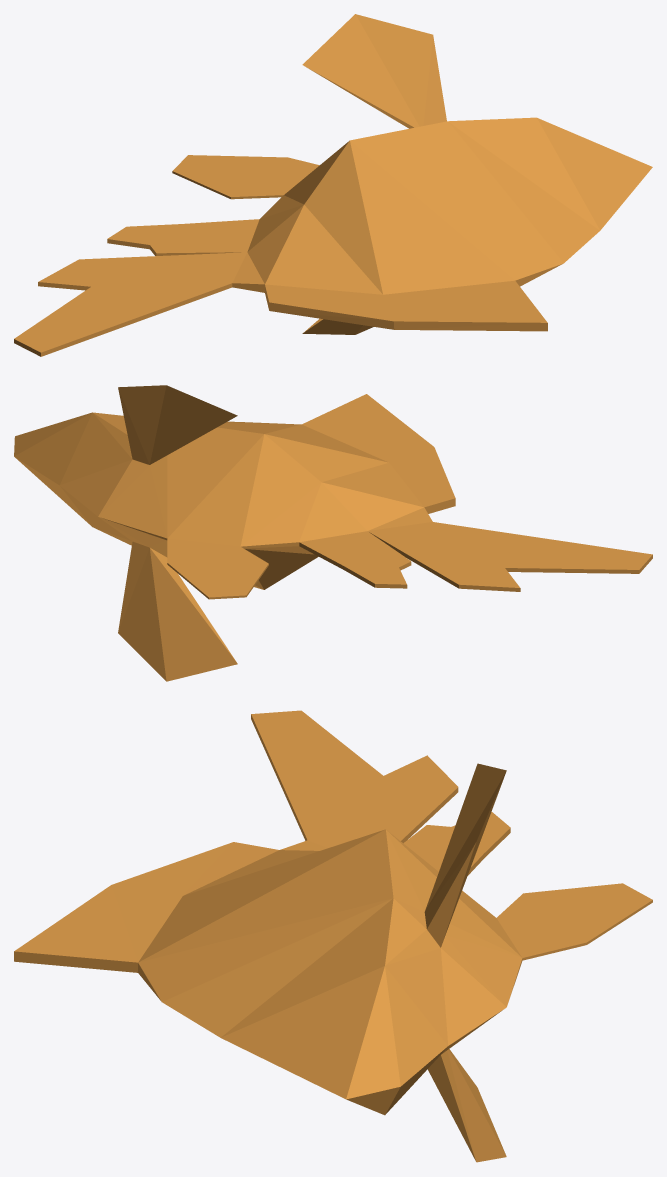
The model's file is fish.glb.
The picture shows the model from 3 angles, top to bottom: view 1: azimuth 30°, elevation 25°; view 2: azimuth 150°, elevation 25°; view 3: azimuth 270°, elevation 25°; orthographic projection. The views are drawn at different scales.
Visible parts, largest first — view 1: pCube28; view 2: pCube28; view 3: pCube28.
Part boxes in pixels (x1,y1,x2,y2): pCube28: (14, 14, 652, 356); pCube28: (14, 385, 652, 681); pCube28: (14, 710, 652, 1162).
Size of the model in its own units: 297 by 139 by 208.
